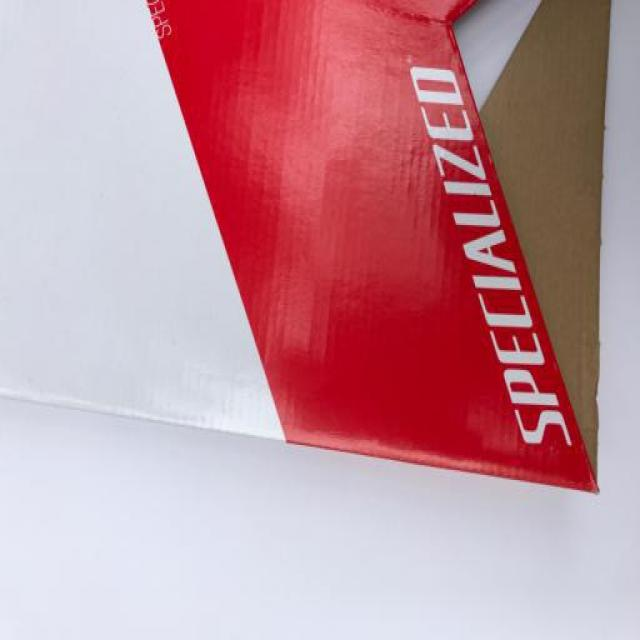class_name: (0, 1, 615, 496)
